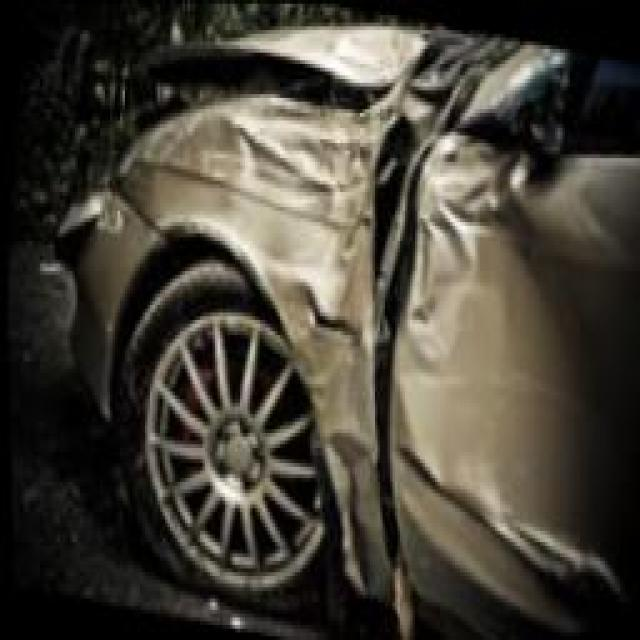Bonnet: (130, 0, 394, 96)
Bumper: (38, 173, 144, 400)
Door: (378, 136, 640, 635)
Fender: (90, 53, 425, 583)
